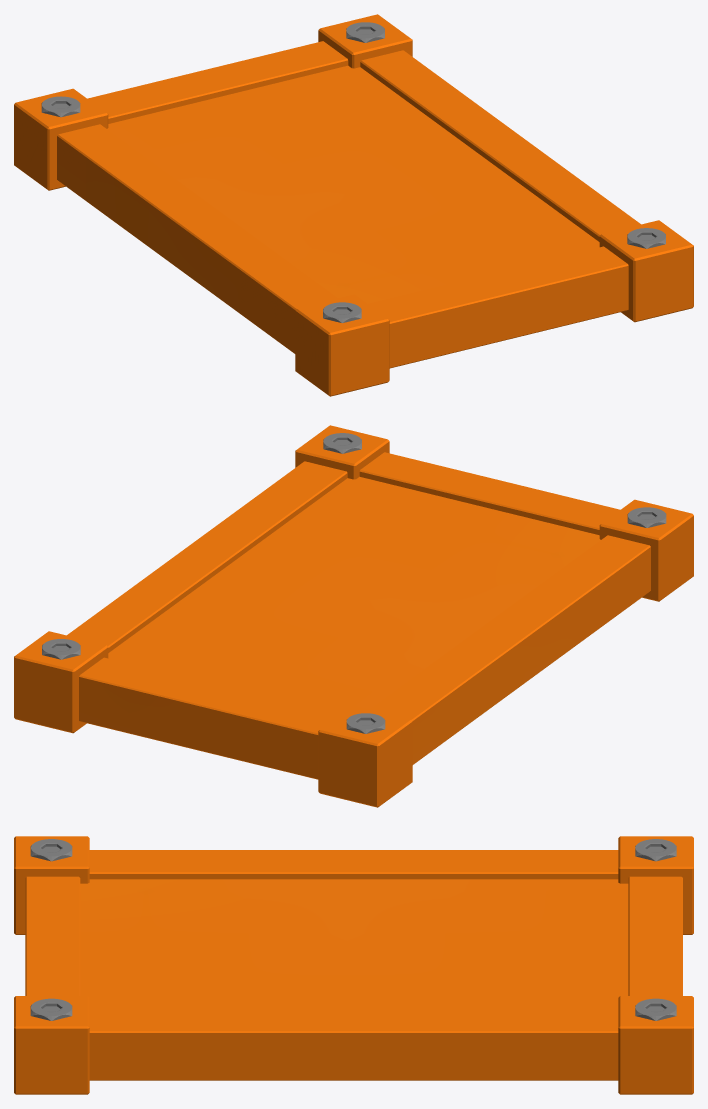
The model's file is FramedRectanglePlatformYellow.fbx.
3 renders of one model, top to bottom at view 1: azimuth 30°, elevation 25°; view 2: azimuth 150°, elevation 25°; view 3: azimuth 270°, elevation 25°, orthographic. The views are drawn at different scales.
Parts seen in each view (by area): view 1: Cube, Cube.001; view 2: Cube, Cube.001; view 3: Cube, Cube.001.
Part boxes in pixels (x1=…): Cube: x1=14, y1=14, x2=693, y2=396; Cube.001: x1=41, y1=22, x2=665, y2=323; Cube: x1=14, y1=425, x2=693, y2=807; Cube.001: x1=42, y1=433, x2=666, y2=733; Cube: x1=14, y1=836, x2=693, y2=1094; Cube.001: x1=30, y1=839, x2=676, y2=1020.
Size of the model in its own units: 6 by 1.05 by 9.
